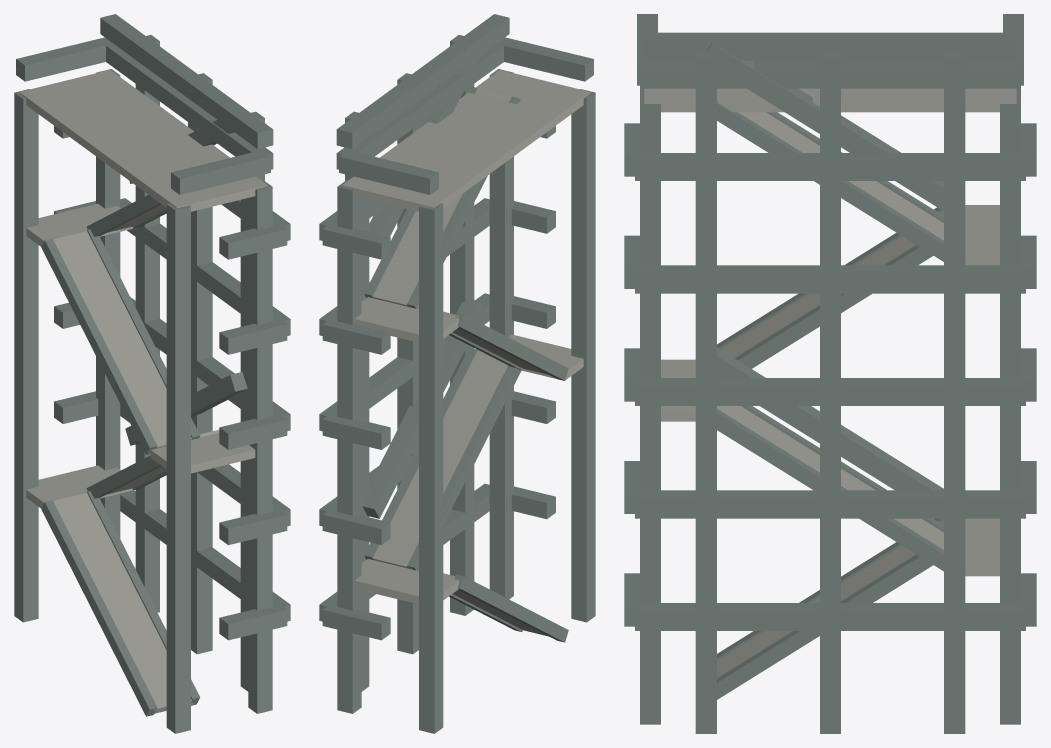
Rendered from SM_EscaleraAzotea_v1_Jaula_LOD1.fbx.
The picture shows the model from 3 angles, left to right: view 1: azimuth 30°, elevation 25°; view 2: azimuth 150°, elevation 25°; view 3: azimuth 270°, elevation 25°; orthographic projection. The views are drawn at different scales.
Visible parts, largest first — view 1: SM_escalera_azotea_v1_LOD1; view 2: SM_escalera_azotea_v1_LOD1; view 3: SM_escalera_azotea_v1_LOD1.
Boxes of the visible parts, x1,y1,x2,y2 form: SM_escalera_azotea_v1_LOD1: [14, 14, 290, 733]; SM_escalera_azotea_v1_LOD1: [319, 14, 595, 733]; SM_escalera_azotea_v1_LOD1: [624, 14, 1036, 733].
Bounding box in the file's own units: 2.49 × 12.27 × 6.64.
